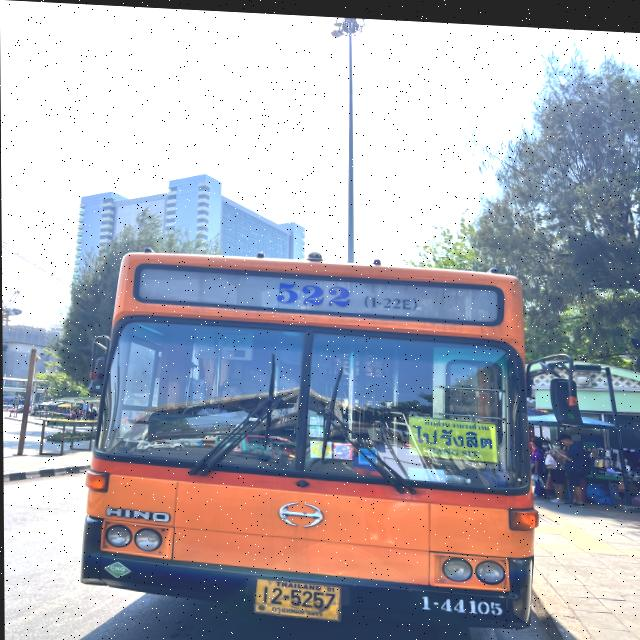BMTA-bus: (77, 247, 540, 631)
Bus-Line-Number: (260, 276, 425, 310)
Destination-Sign-Normal-Expressway: (405, 411, 499, 459)
